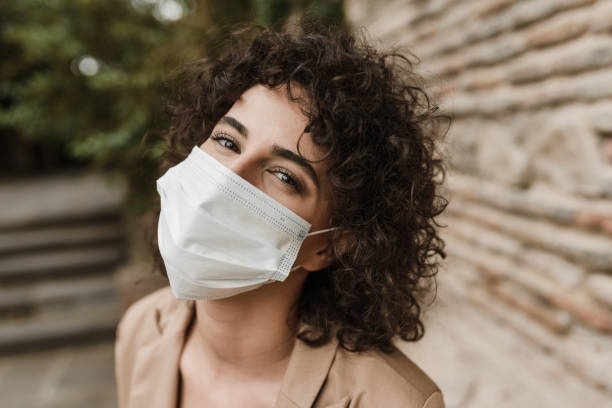mask: (154, 22, 385, 307)
person: (112, 26, 446, 408)
